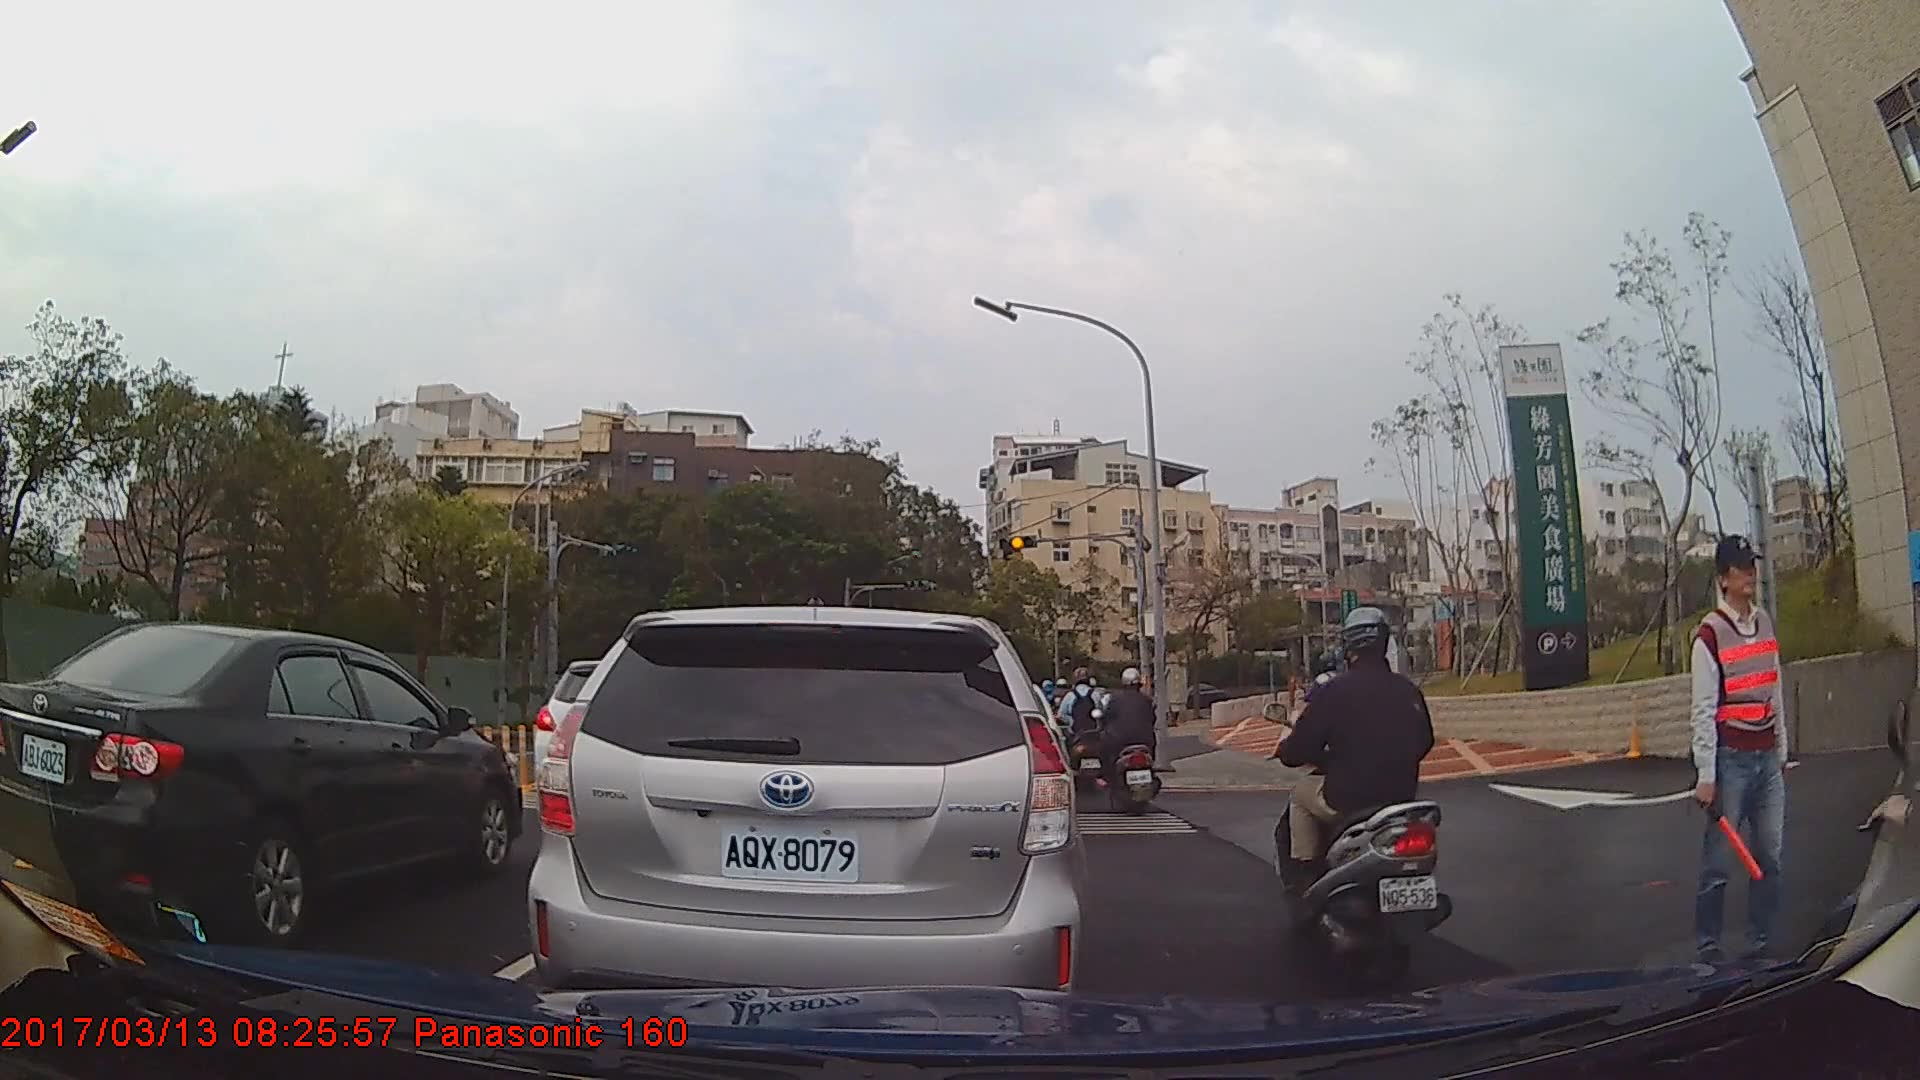pedestrian: (1692, 534, 1808, 980)
rider: (1268, 607, 1457, 981), (1099, 663, 1164, 824), (1057, 665, 1115, 798)
vehicle: (528, 604, 1080, 1028), (0, 619, 521, 947), (1158, 680, 1226, 713)
